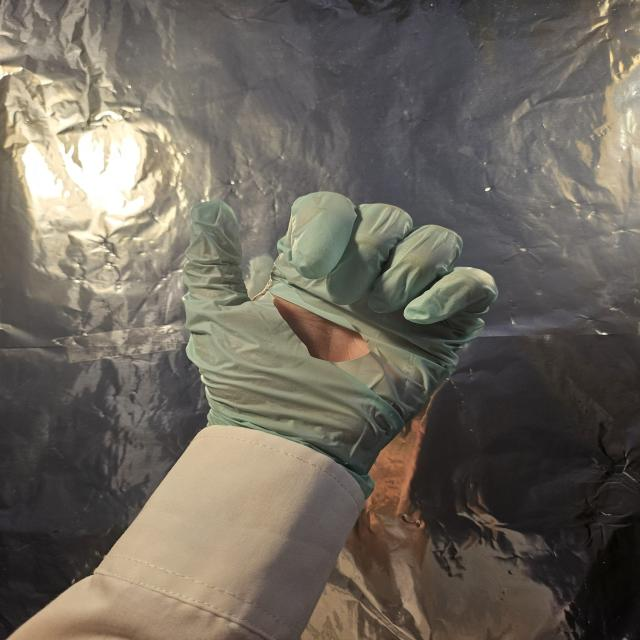gloves_damaged: (175, 182, 506, 470)
